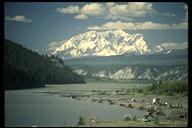cloud: (70, 2, 151, 19)
mountain: (7, 28, 188, 93)
sky: (17, 4, 68, 38)
snow: (81, 37, 132, 50)
water: (9, 91, 136, 123)
